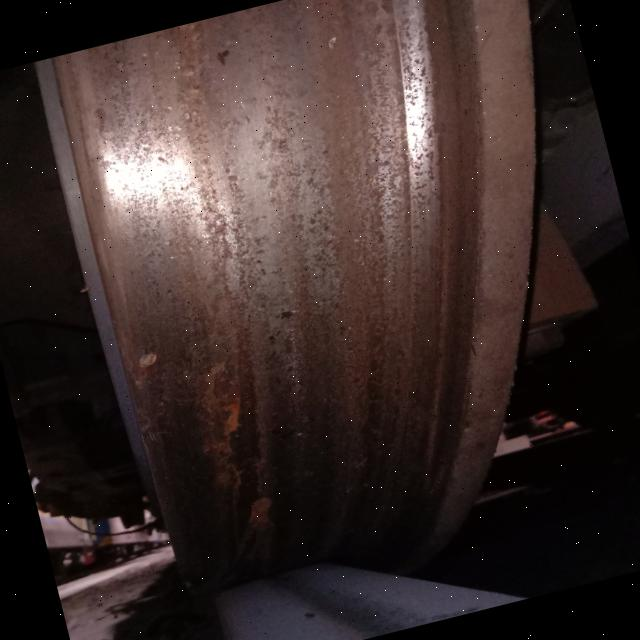flat: (176, 59, 382, 414)
